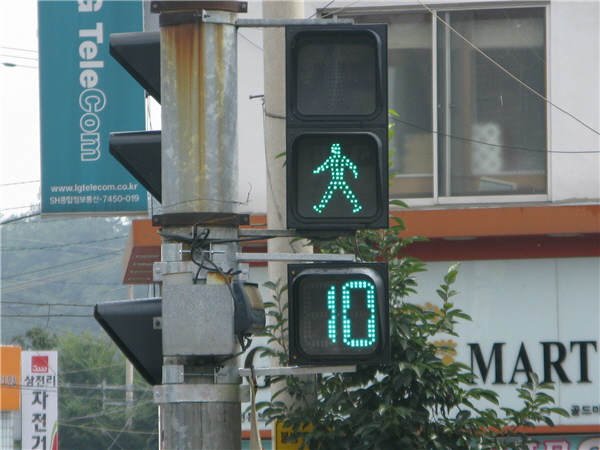traffic_light: (284, 29, 389, 231)
traffic_light_number: (295, 265, 386, 362)
